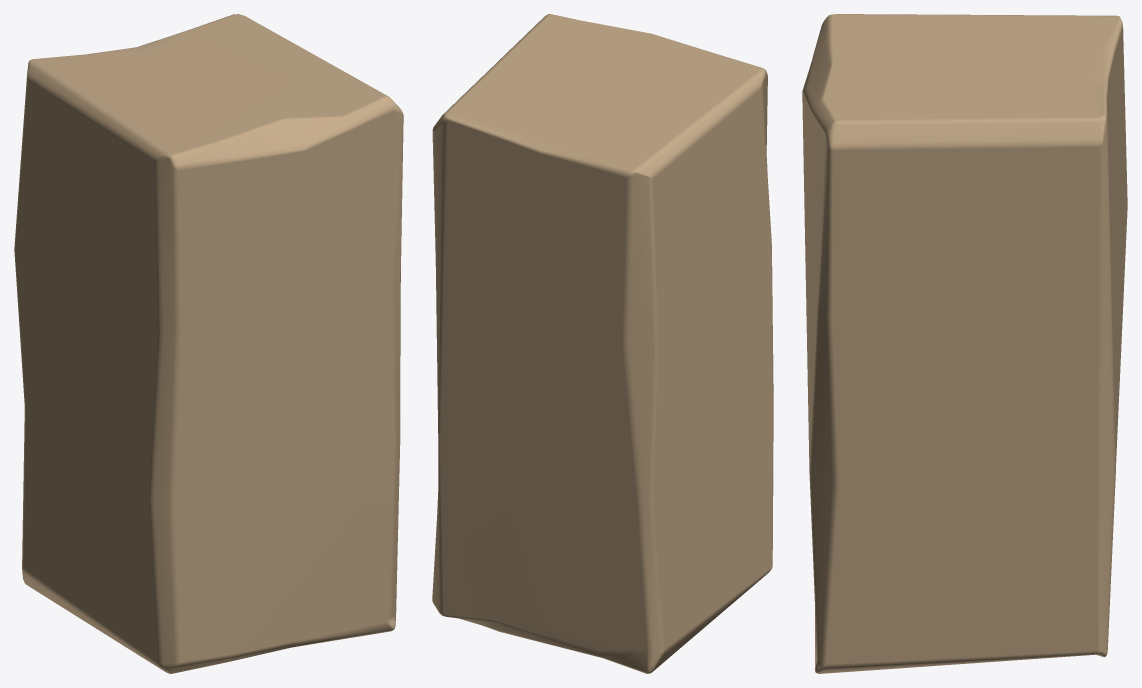
Rendered from brick02s1.glb.
3 renders of one model, left to right at view 1: azimuth 30°, elevation 25°; view 2: azimuth 150°, elevation 25°; view 3: azimuth 270°, elevation 25°, orthographic. The views are drawn at different scales.
Visible parts, largest first — view 1: Brick03.s1; view 2: Brick03.s1; view 3: Brick03.s1.
Boxes of the visible parts, box(x1,y1,x2,y2) form: Brick03.s1: box(14, 14, 403, 673); Brick03.s1: box(432, 14, 773, 673); Brick03.s1: box(802, 14, 1127, 673).
Bounding box in the file's own units: 0.3924 × 0.7765 × 0.4094.
